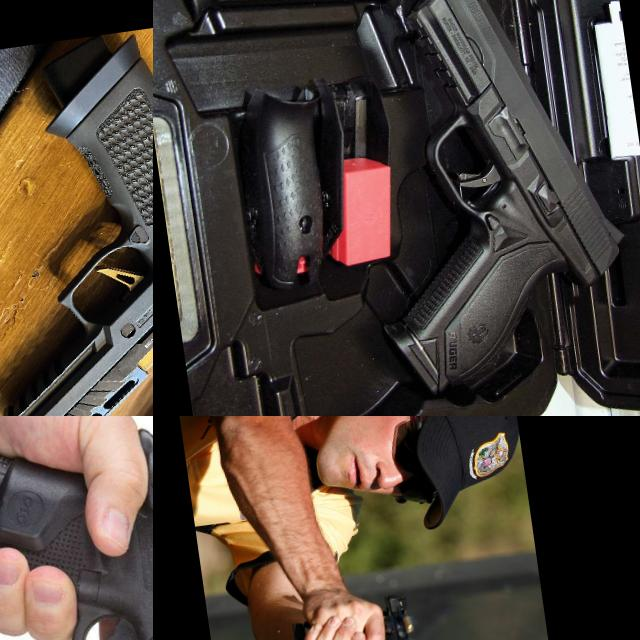handgun: (327, 0, 640, 407), (0, 16, 153, 416), (0, 416, 153, 640), (347, 591, 428, 640)
